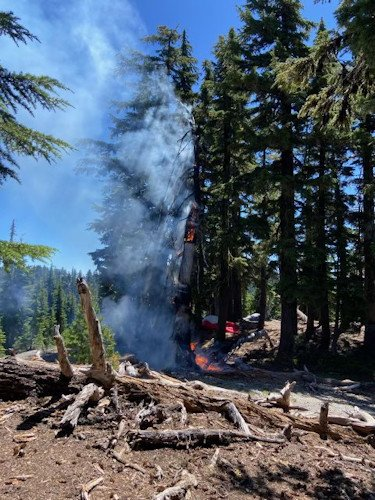fire: (156, 288, 290, 407), (139, 166, 265, 289)
